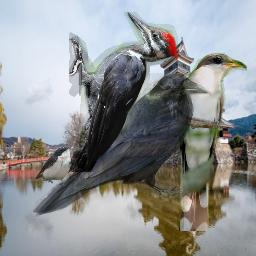Crow: (32, 73, 211, 217)
Cuckoo: (175, 52, 247, 231)
Swallow: (34, 146, 75, 187)
Woodpecker: (69, 12, 178, 172)
